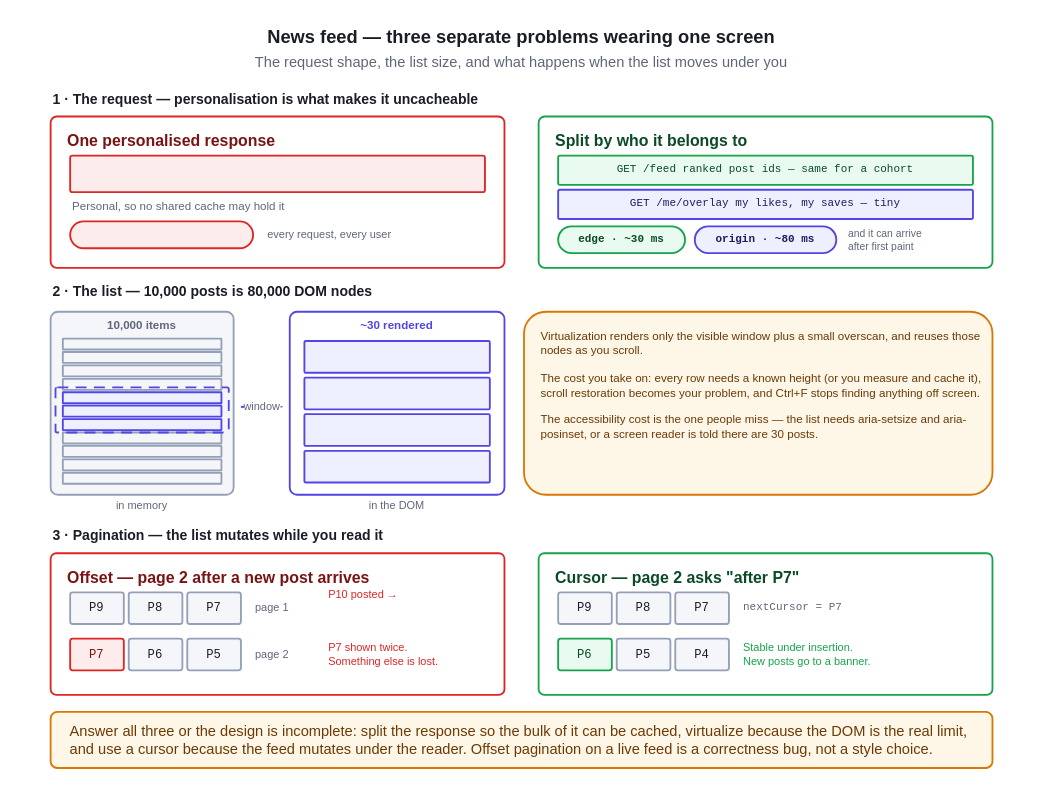
Image size: 1042x789. Some labels were removed from this diagram. Here are the shapes that lost their labels. From the top down, the centre of each, then its label:
(x=277, y=173): GET /feed → ranked posts + my likes + my saves
(x=161, y=234): origin · ~250 ms
